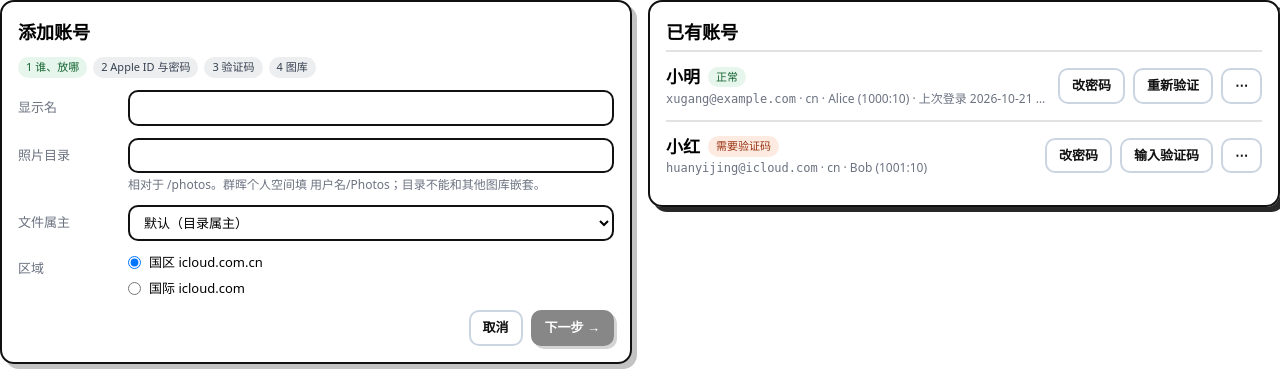
Test: Accounts page › the row shows the file owner read-only: name and uid:gid, no way to change it
The width and height of the screenshot is (1280, 386).
Expected: the text "Alice (1000:10)" is shown, [819,90,909,106]
Click the button named "更多": (1242, 86) [1221,68,1262,104]
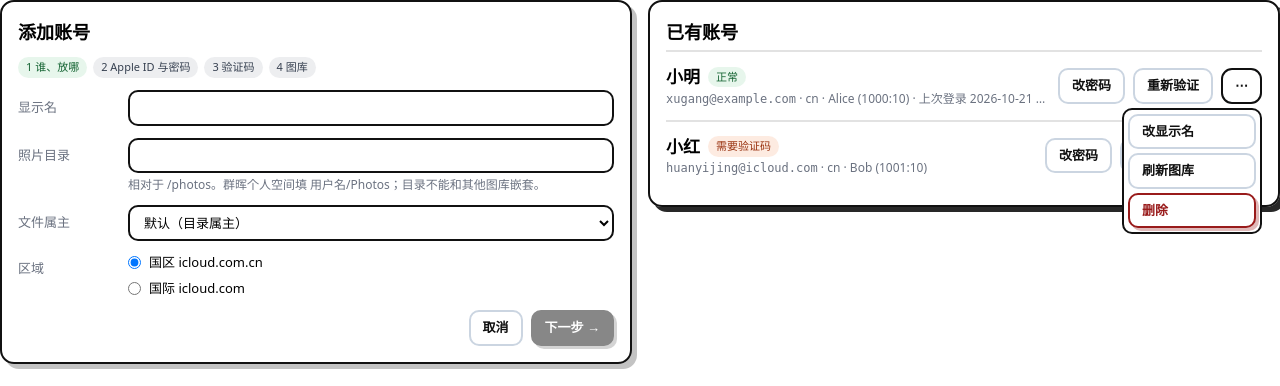
Result: the button "改显示名" is shown at [1128,114,1256,149]
